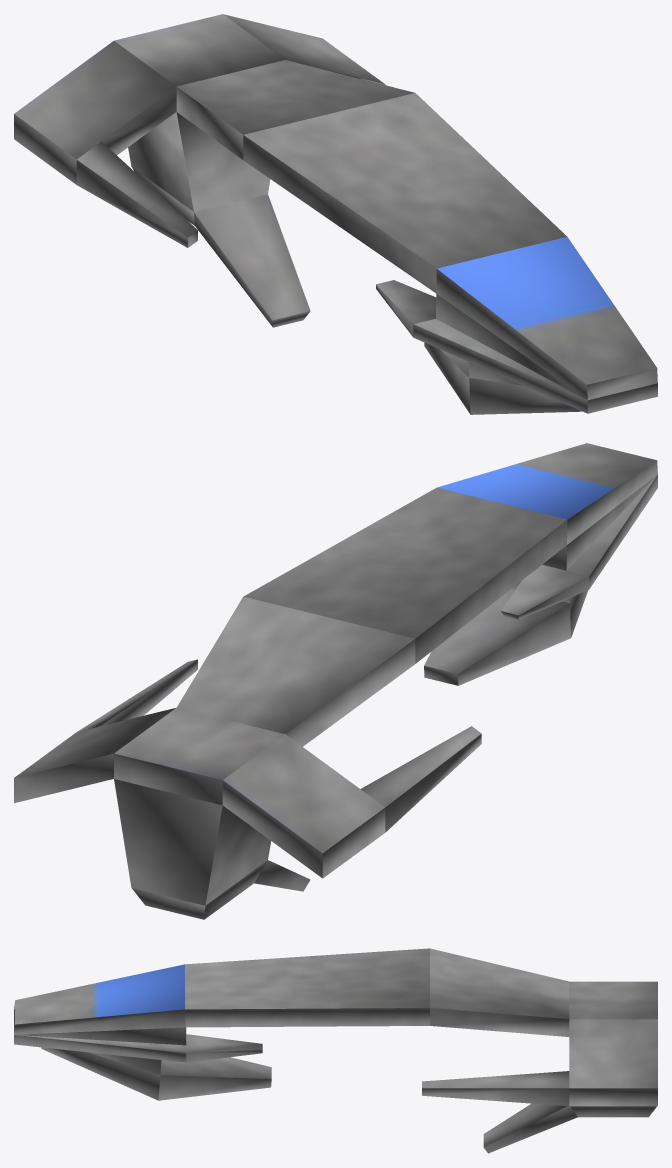
Rendered from Ship2.fbx.
3 views of the same model, one above another, from view 1: azimuth 30°, elevation 25°; view 2: azimuth 150°, elevation 25°; view 3: azimuth 270°, elevation 25° (orthographic). The views are drawn at different scales.
Visible parts, largest first — view 1: mesh0; view 2: mesh0; view 3: mesh0.
Boxes of the visible parts, x1,y1,x2,y2 form: mesh0: (14, 14, 657, 414); mesh0: (14, 443, 657, 919); mesh0: (14, 948, 657, 1153).
Bounding box in the file's own units: 905 × 673 × 2308.
1 material, 1 textured.
